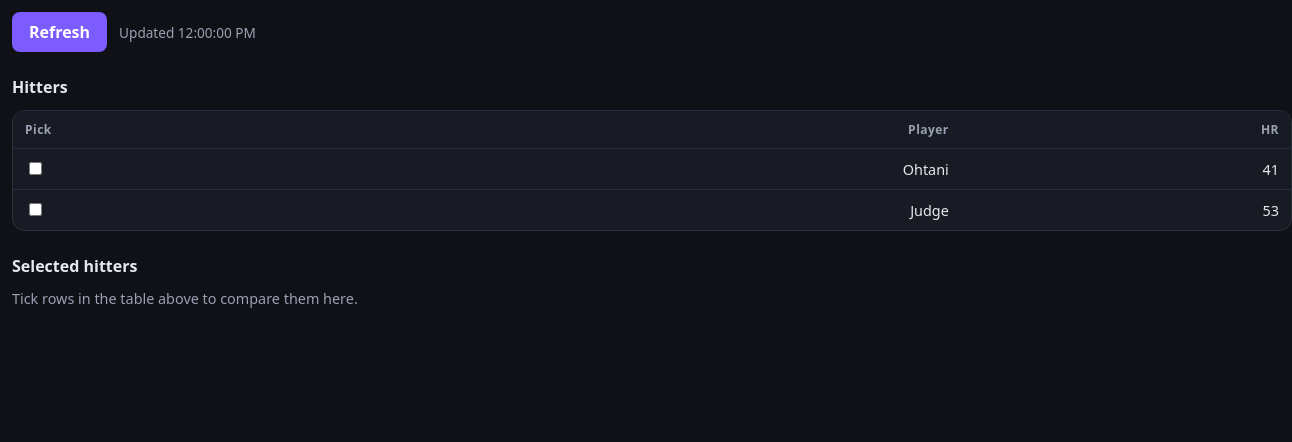
Test case: DashboardView › feeds the compare panel from the rows the user ticks
This screenshot has width=1292, height=442.
Expected: the text "Ohtani" is shown, [411, 149, 961, 190]
Expected: the text "Tick rows in the table above to compare them here." is shown, [12, 289, 358, 308]
Click the checkbox named "Select row" in the row of "Ohtani": (36, 168) [29, 162, 42, 175]
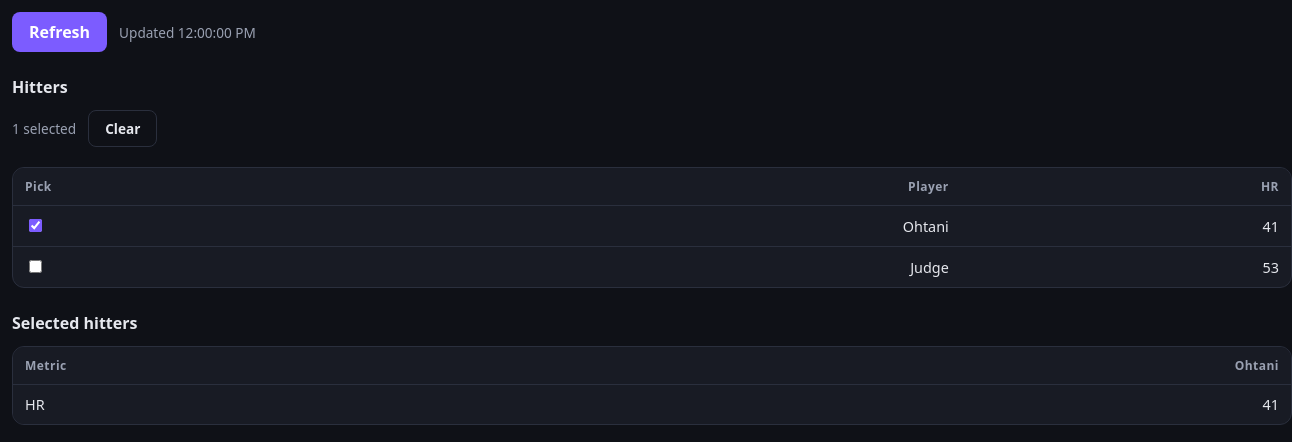
Expected: the column heading "Ohtani" is shown, [988, 347, 1291, 384]
Expected: the 2nd text "41" is shown, [988, 385, 1291, 424]
